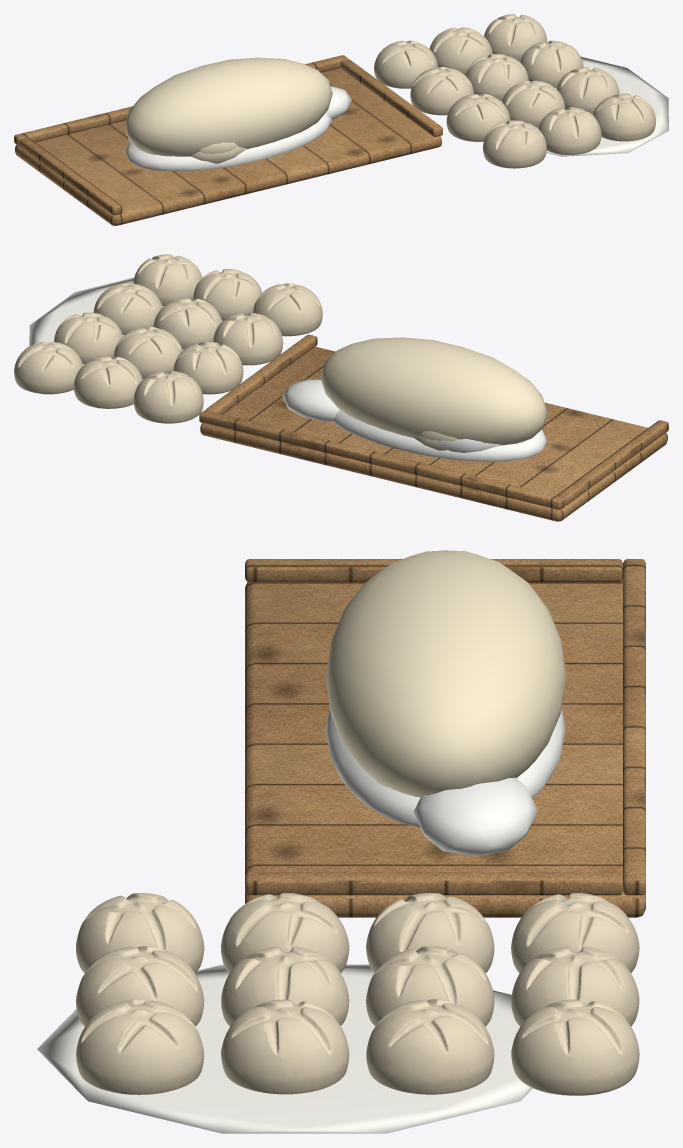
Rendered from dough-trough.glb.
3 renders of one model, top to bottom at view 1: azimuth 30°, elevation 25°; view 2: azimuth 150°, elevation 25°; view 3: azimuth 270°, elevation 25°, orthographic. The views are drawn at different scales.
Visible parts, largest first — view 1: trough, dough.dough, flour.dough, dough.flour, dough6.loaf0, dough6.loaf1, dough6.loaf5, dough6.loaf2, loaves7.loaf6, loaves10.loaf9, loaves9.loaf8, dough6.loaf3 (+5 smaller); view 2: trough, dough.dough, flour.dough, loaves10.loaf9, loaves12.loaf11, loaves11.loaf10, dough6.loaf0, dough6.loaf2, loaves7.loaf6, loaves9.loaf8, dough6.loaf4, loaves8.loaf7 (+5 smaller); view 3: trough, dough.dough, dough.flour, loaves12.loaf11, dough6.loaf5, loaves9.loaf8, dough6.loaf4, shaggy.dough, loaves7.loaf6, loaves10.loaf9, dough6.loaf2, loaves11.loaf10 (+5 smaller).
Boxes of the visible parts, x1,y1,x2,y2 form: trough: (14,55,442,225); dough.dough: (124,57,332,156); flour.dough: (125,113,331,171); dough.flour: (465,56,668,156); dough6.loaf0: (482,120,546,168); dough6.loaf1: (538,107,601,154); dough6.loaf5: (593,93,655,141); dough6.loaf2: (446,93,510,141); loaves7.loaf6: (410,67,474,115); loaves10.loaf9: (374,40,437,88); loaves9.loaf8: (520,40,583,87); dough6.loaf3: (502,80,565,127); trough: (199,334,668,521); dough.dough: (320,337,547,445); flour.dough: (332,410,547,461); loaves10.loaf9: (133,370,203,423); loaves12.loaf11: (14,341,83,394); loaves11.loaf10: (73,356,142,408); dough6.loaf0: (252,283,322,336); dough6.loaf2: (213,312,283,365); loaves7.loaf6: (173,341,243,394); loaves9.loaf8: (54,312,122,364); dough6.loaf4: (93,283,162,334); loaves8.loaf7: (113,326,182,378); trough: (245,559,645,917); dough.dough: (325,550,566,797); dough.flour: (37,964,532,1133); loaves12.loaf11: (511,999,639,1095); dough6.loaf5: (76,999,204,1094); loaves9.loaf8: (366,999,494,1094); dough6.loaf4: (221,999,349,1094); shaggy.dough: (413,777,537,855); loaves7.loaf6: (366,893,494,972); loaves10.loaf9: (511,893,639,973); dough6.loaf2: (221,893,349,972); loaves11.loaf10: (511,946,639,1026).
Size of the model in its own units: 3.32 by 0.511 by 1.59.
Materials: 4 (2 with a texture image).
